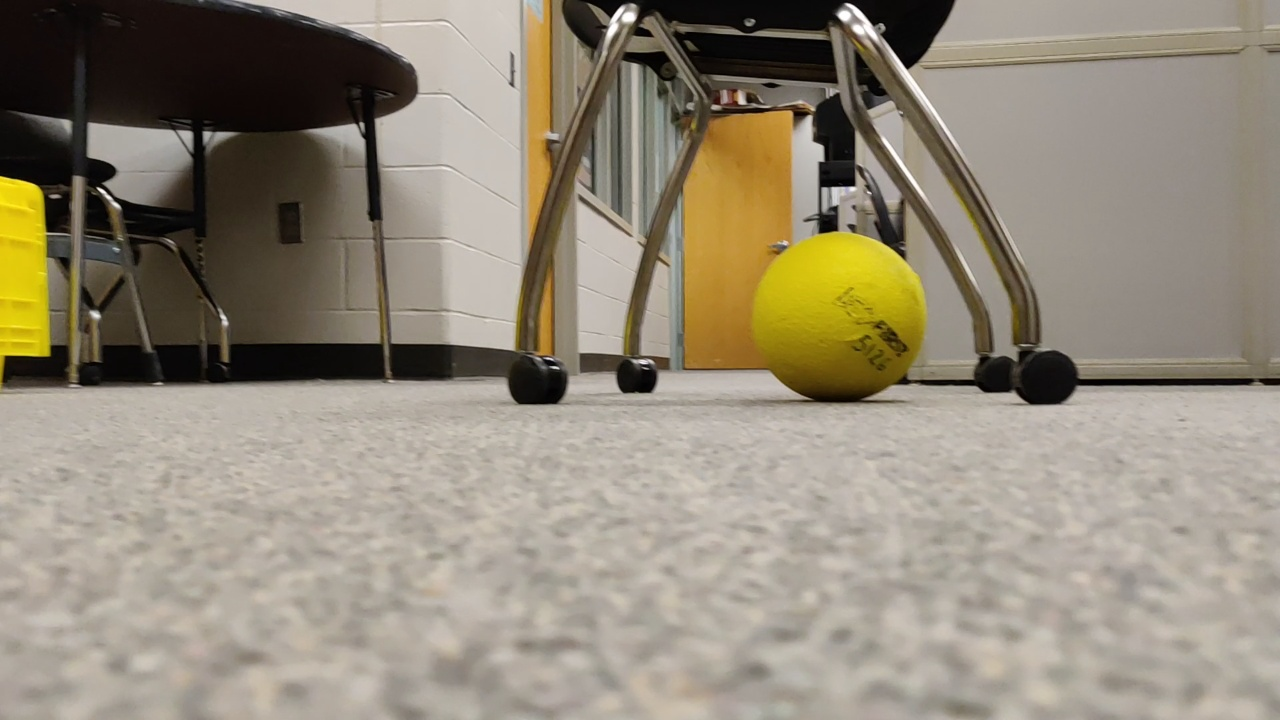Ball: (750, 231, 927, 412)
